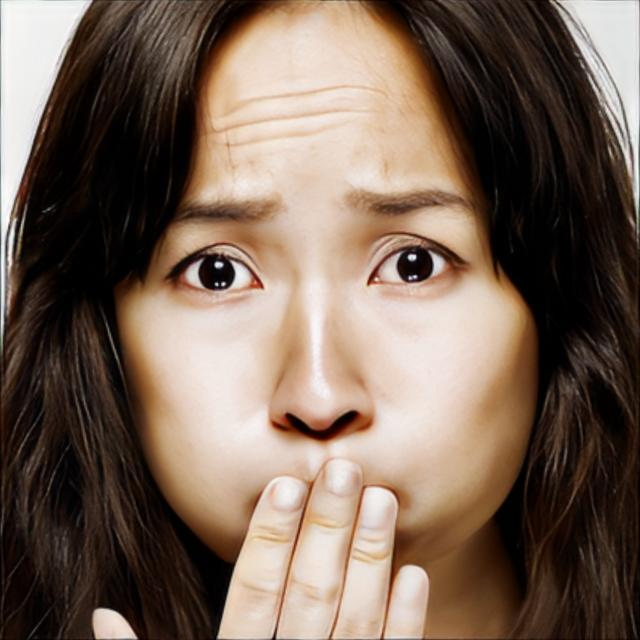fear: (116, 0, 541, 599)
